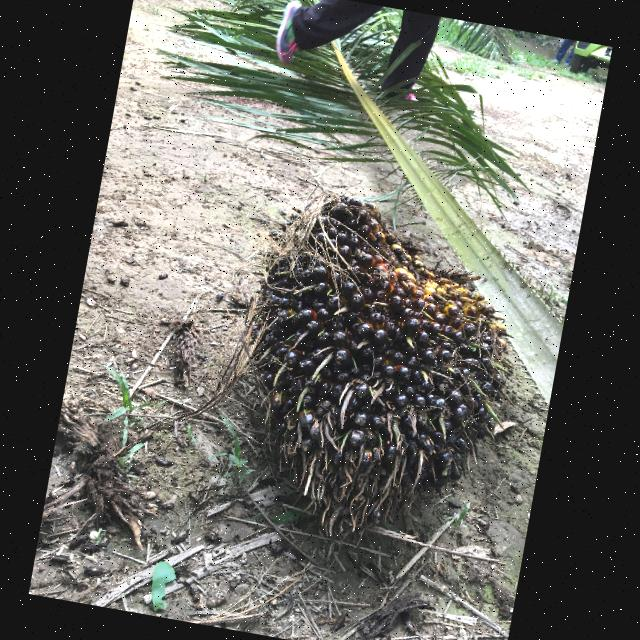Unripe: (262, 195, 503, 531)
